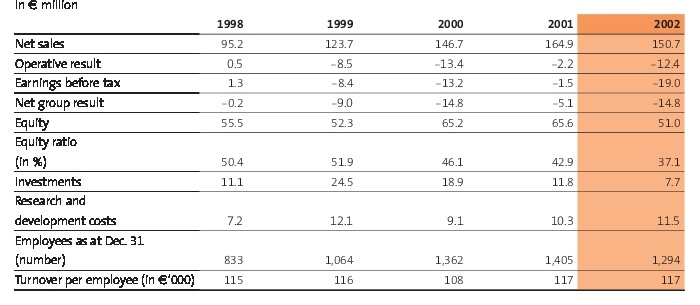table: (0, 0, 700, 305)
